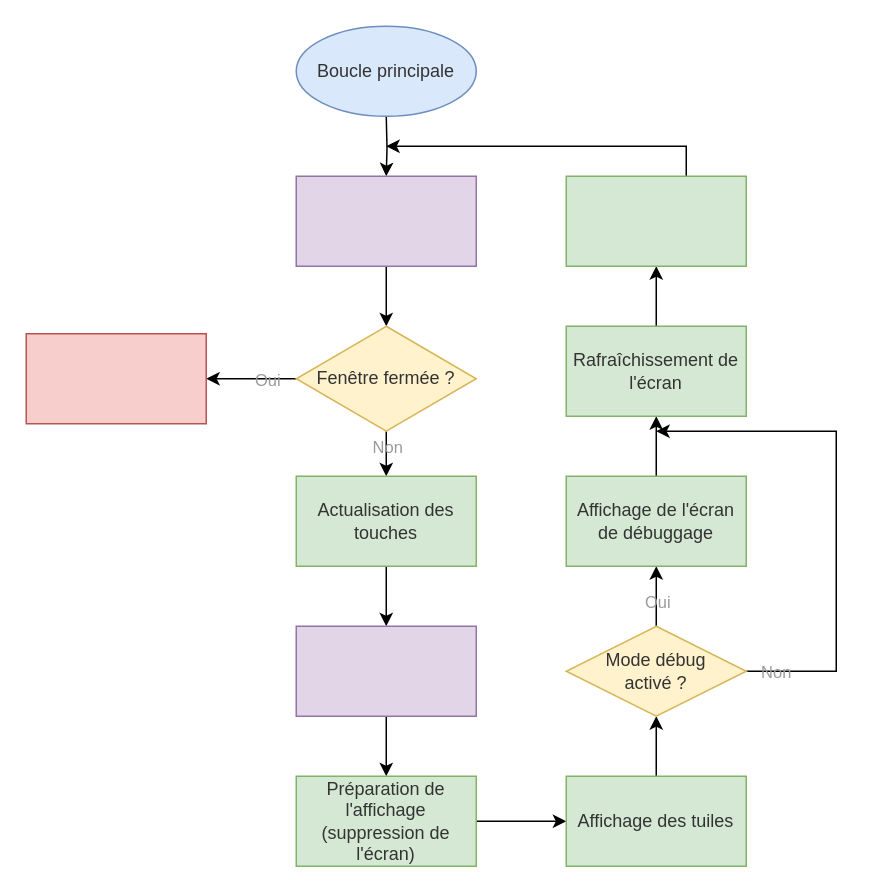
This 875x893 diagram has some shape labels left out. Each missing label, with the centre of its shape:
"Actualisation de la connexion avec discord (mise à jour client → serveur)" goes at (385,670).
"Actualisation de la connexion avec discord (mise à jour serveur → client)" goes at (385,220).
"Attente de suffisamment de temps pour ne pas excéder les FPS" goes at (655,220).
"Fin" goes at (115,378).
